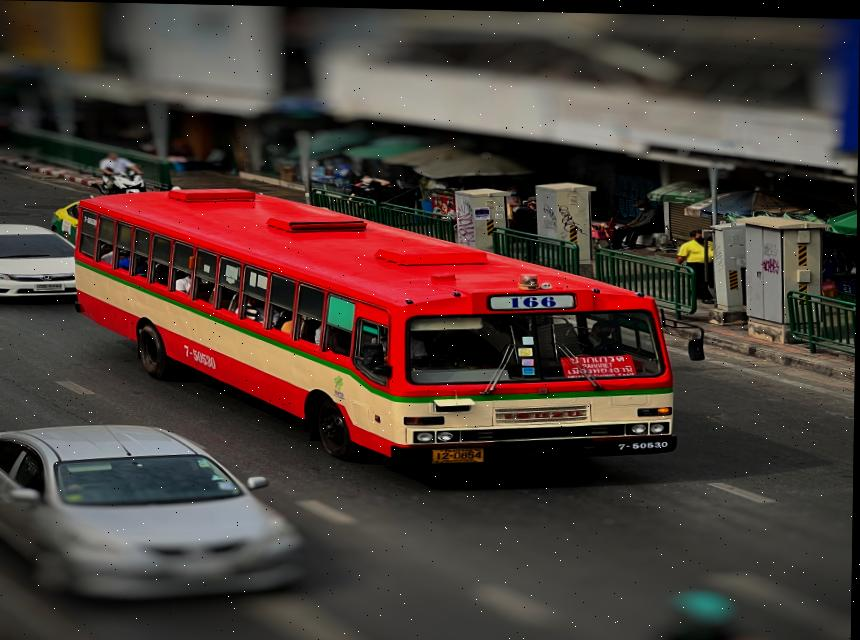BMTA-bus: (48, 188, 679, 465)
Bus Line Number: (493, 288, 580, 311)
Bus Side Number: (610, 437, 678, 449)
Destination Sign: (561, 350, 642, 376)
